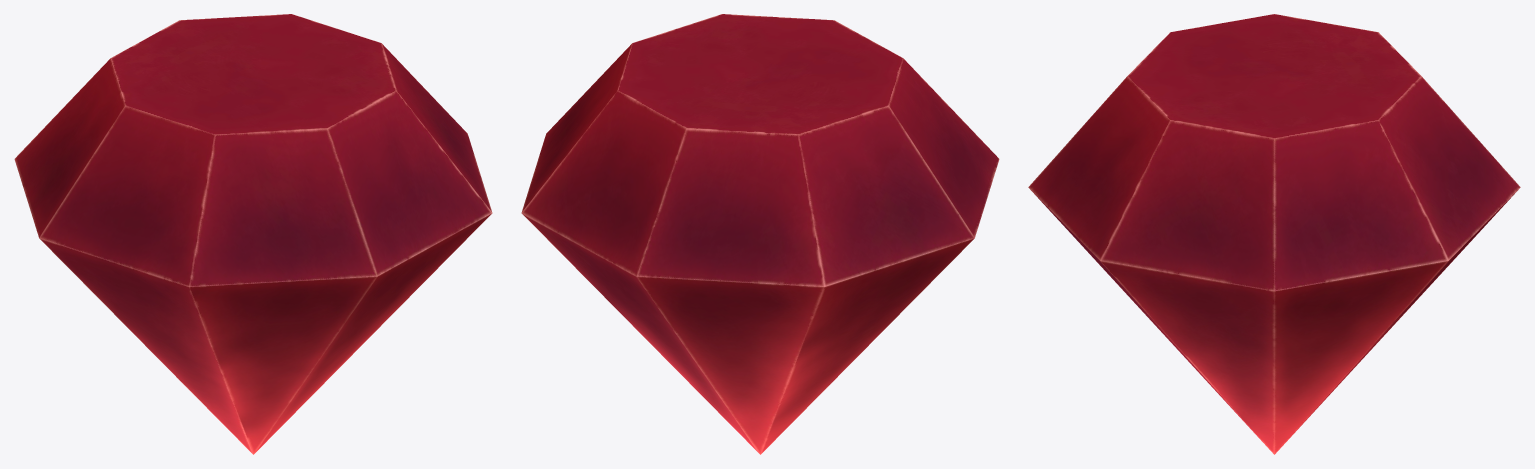
Rendered from gem.glb.
The picture shows the model from 3 angles, left to right: view 1: azimuth 30°, elevation 25°; view 2: azimuth 150°, elevation 25°; view 3: azimuth 270°, elevation 25°; orthographic projection.
Parts seen in each view (by area): view 1: gem3; view 2: gem3; view 3: gem3.
Boxes of the visible parts, x1,y1,x2,y2 form: gem3: (14,14,492,454); gem3: (521,14,999,454); gem3: (1028,14,1520,454).
Bounding box in the file's own units: 0.4959 × 0.4208 × 0.4959.
1 material, 1 textured.
